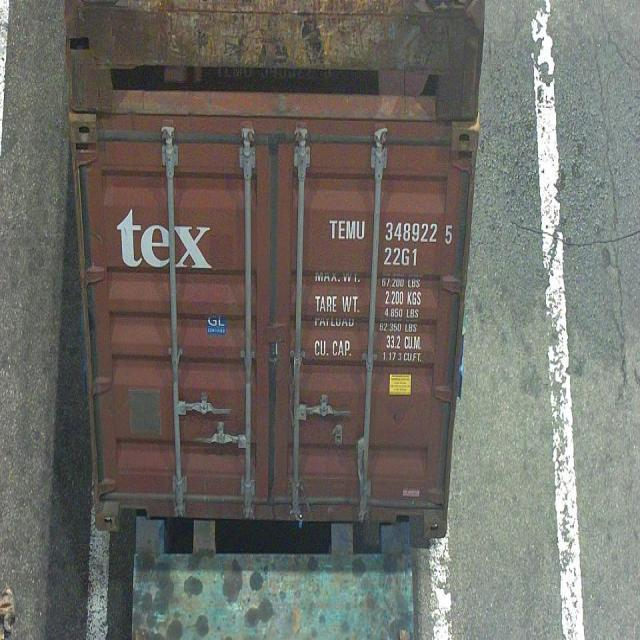ISO: (383, 248, 420, 266)
container_number: (328, 214, 456, 246)
